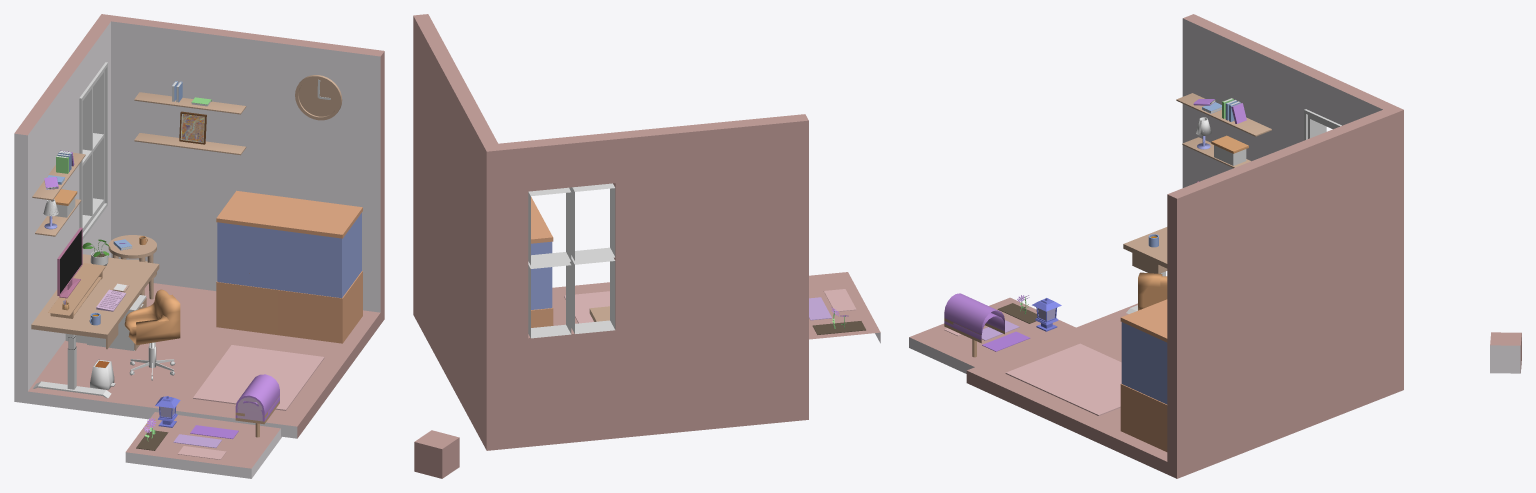
The model's file is Finale Version 1.glb.
3 views of the same model, side by side, from view 1: azimuth 30°, elevation 25°; view 2: azimuth 150°, elevation 25°; view 3: azimuth 270°, elevation 25° (orthographic). The views are drawn at different scales.
Visible parts, largest first — view 1: Cube.001, Body, Aquarium, Cube.083, Floor Items, Shelves, Mini Floor, Table Top.001, AquaGlass.002, Cube.070, Table Stuff, Desks (+12 smaller); view 2: Cube.001, Body, Mini Floor, Plane.001, Cube, AquaGlass.002, Cube.070, Cube.083, Floor Items; view 3: Body, Cube.001, Aquarium, Floor Items, Mini Floor, Shelves, Mailbox, Cube, Cube.083, Table Top.001, Cube.070.
Boxes of the visible parts, bbox=[...] form: Cube.001: bbox=[14, 21, 384, 438]; Body: bbox=[14, 14, 384, 438]; Aquarium: bbox=[216, 207, 362, 343]; Cube.083: bbox=[216, 190, 362, 343]; Floor Items: bbox=[106, 295, 323, 409]; Shelves: bbox=[32, 81, 246, 236]; Mini Floor: bbox=[126, 412, 281, 478]; Table Top.001: bbox=[31, 254, 159, 338]; AquaGlass.002: bbox=[278, 230, 341, 298]; Cube.070: bbox=[125, 422, 280, 478]; Table Stuff: bbox=[48, 236, 147, 325]; Desks: bbox=[33, 235, 156, 398]; Cube.001: bbox=[472, 120, 808, 449]; Body: bbox=[413, 14, 808, 450]; Mini Floor: bbox=[809, 272, 880, 343]; Plane.001: bbox=[528, 187, 614, 338]; Cube: bbox=[414, 430, 459, 478]; AquaGlass.002: bbox=[531, 241, 552, 309]; Cube.070: bbox=[809, 272, 867, 321]; Cube.083: bbox=[531, 197, 553, 327]; Floor Items: bbox=[565, 291, 609, 323]; Body: bbox=[1167, 14, 1403, 478]; Cube.001: bbox=[966, 110, 1403, 478]; Aquarium: bbox=[1120, 318, 1167, 451]; Floor Items: bbox=[1007, 344, 1121, 414]; Mini Floor: bbox=[909, 297, 1075, 373]; Shelves: bbox=[1176, 93, 1271, 167]; Mailbox: bbox=[944, 293, 1004, 357]; Cube: bbox=[1490, 332, 1521, 373]; Cube.083: bbox=[1121, 299, 1167, 338]; Table Top.001: bbox=[1123, 227, 1167, 263]; Cube.070: bbox=[913, 315, 1075, 352].
Bounding box in the file's own units: 27.58 × 19.65 × 38.64.
Materials: 92 (2 with a texture image).
